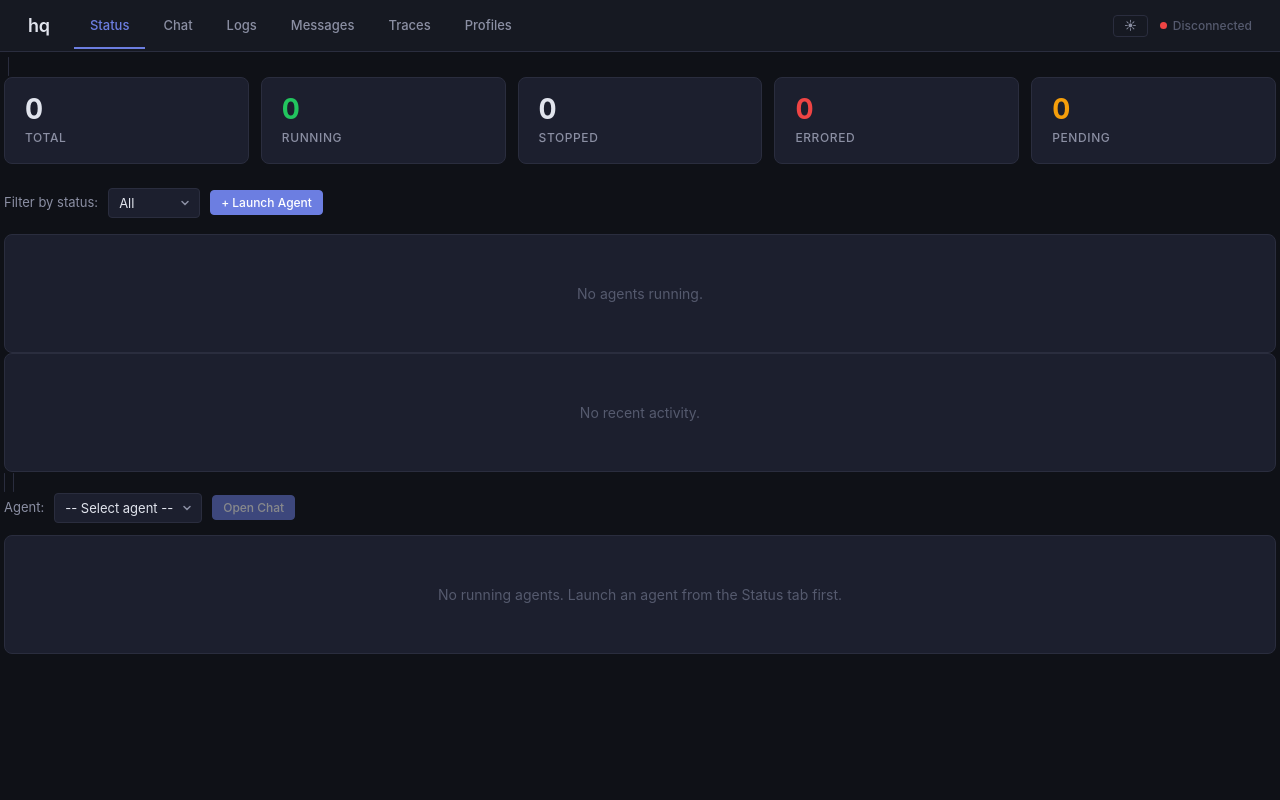
it: LaunchDialog › dialog can be closed
This screenshot has width=1280, height=800.
Click the button with test id "open-launch": (266, 203) [210, 190, 323, 215]
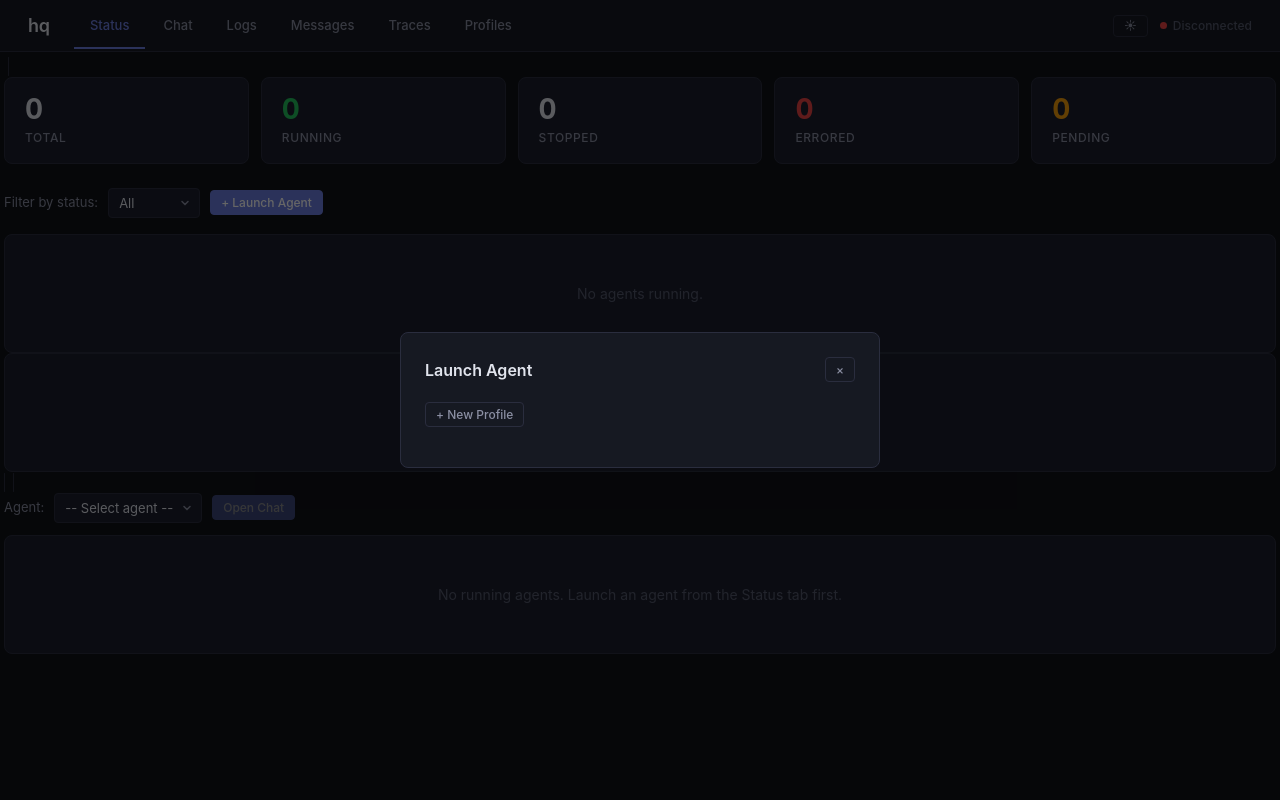
Now the element with test id "launch-dialog" is shown
Click the button with test id "close-dialog": (840, 370) [825, 357, 855, 382]
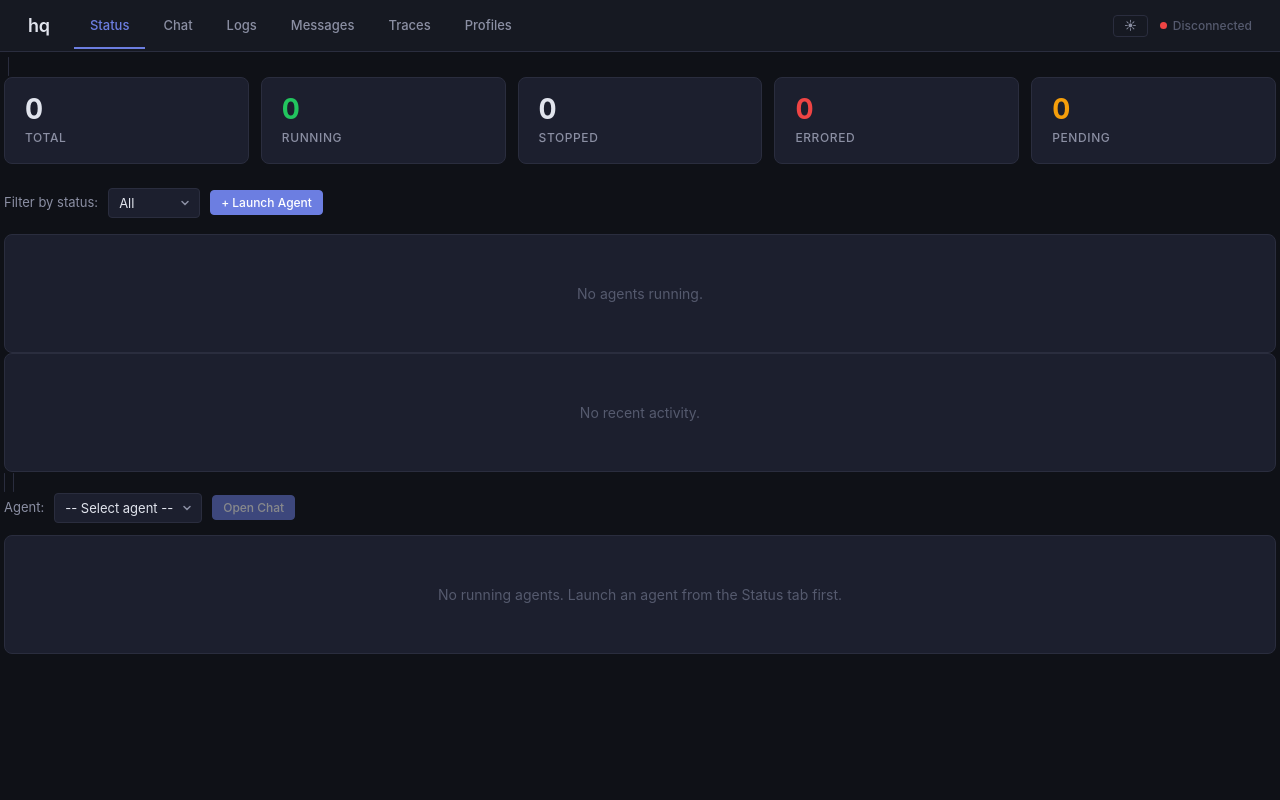
Now the element with test id "launch-dialog" is gone
